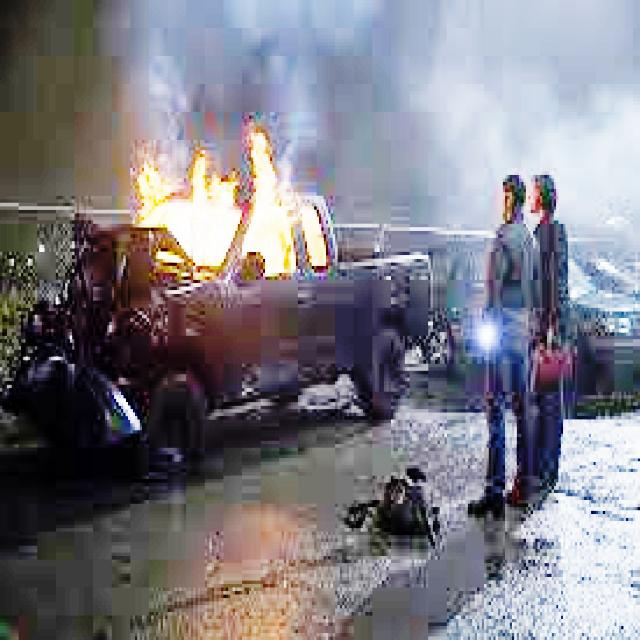api: (131, 123, 334, 295)
